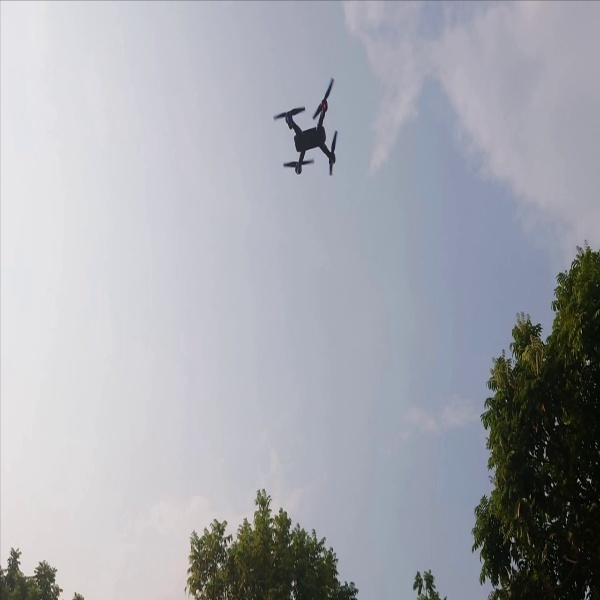drone: (266, 71, 340, 185)
